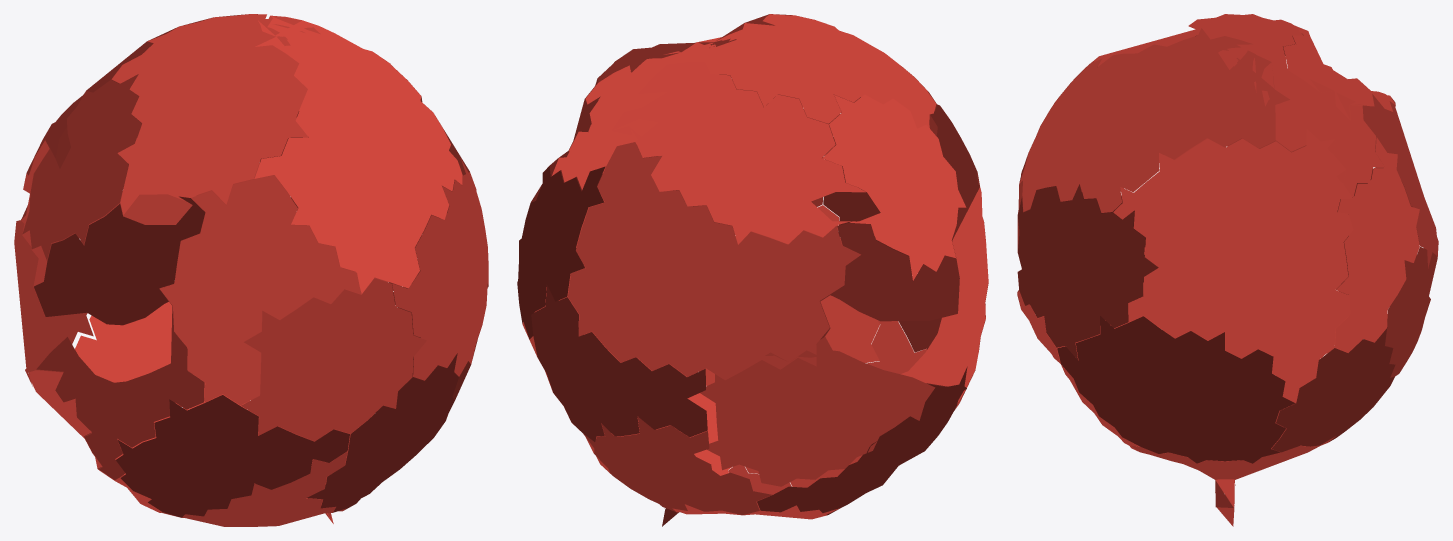
Rendered from Ballon_Explode.fbx.
3 renders of one model, left to right at view 1: azimuth 30°, elevation 25°; view 2: azimuth 150°, elevation 25°; view 3: azimuth 270°, elevation 25°, orthographic. The views are drawn at different scales.
Visible parts, largest first — view 1: Explode; view 2: Explode; view 3: Explode.
Part boxes in pixels (x1,y1,x2,y2): Explode: [14, 14, 488, 526]; Explode: [517, 14, 988, 526]; Explode: [1017, 14, 1438, 526].
Bounding box in the file's own units: 0.4963 × 0.5909 × 0.4926.
